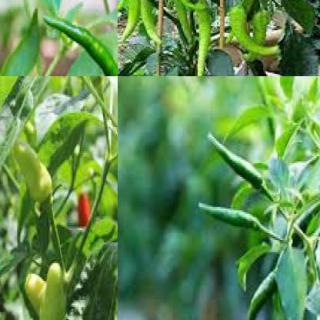green_chilli: (41, 13, 117, 76), (207, 132, 265, 194), (221, 2, 287, 56), (14, 141, 54, 205), (198, 200, 260, 237), (245, 269, 277, 319), (40, 259, 66, 319), (244, 8, 271, 60), (196, 0, 214, 75), (139, 0, 165, 45), (169, 0, 193, 48), (120, 0, 143, 43), (24, 270, 46, 314), (176, 0, 212, 12), (118, 0, 130, 17)
